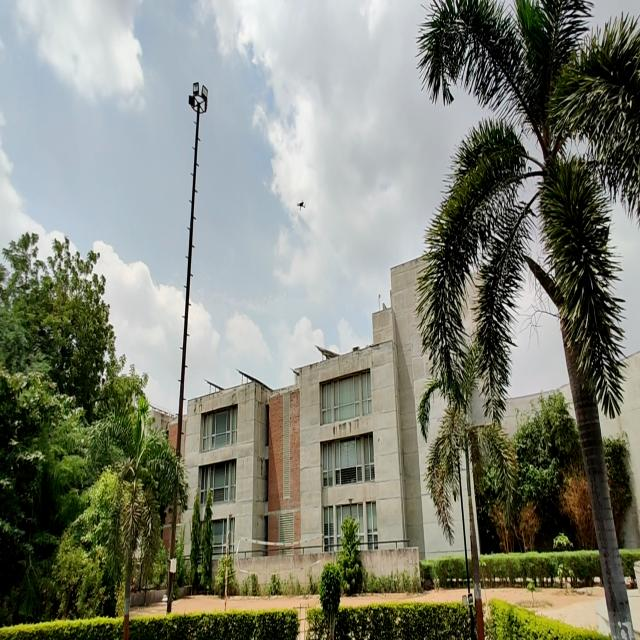drone: (292, 192, 308, 216)
